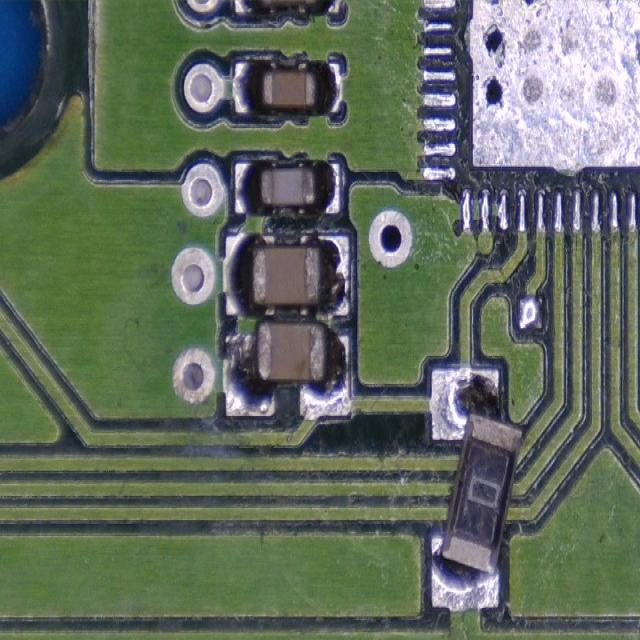Incorrect_installation: (429, 366, 525, 610), (224, 321, 350, 417)
